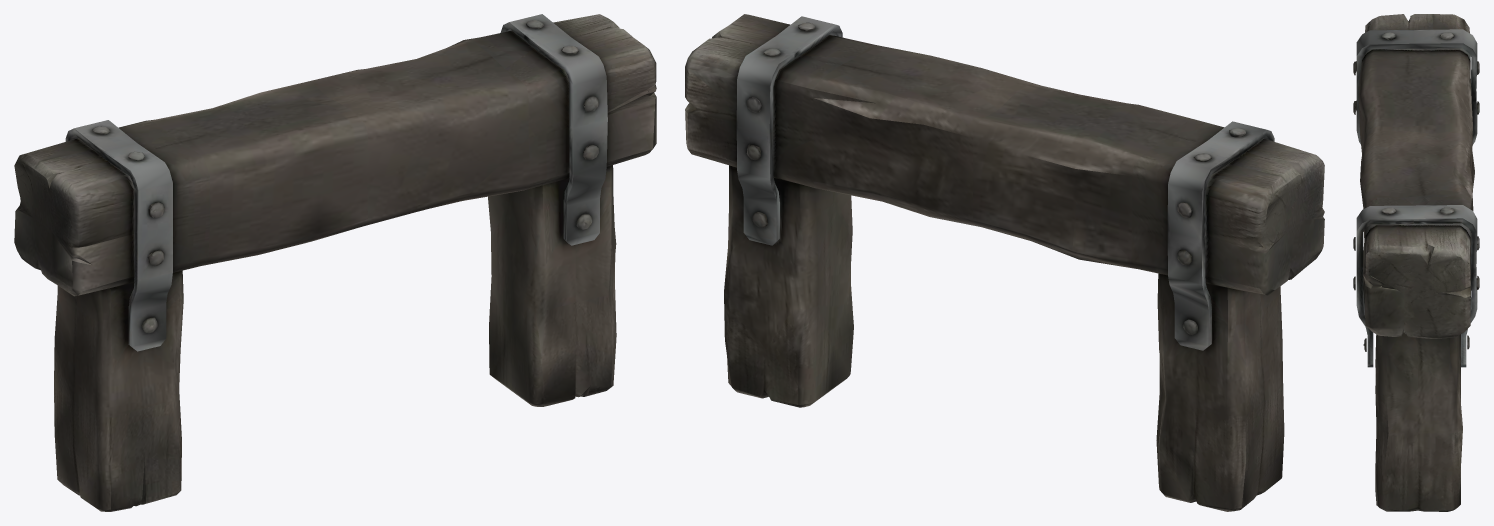
Rendered from beam.glb.
The picture shows the model from 3 angles, left to right: view 1: azimuth 30°, elevation 25°; view 2: azimuth 150°, elevation 25°; view 3: azimuth 270°, elevation 25°; orthographic projection. The views are drawn at different scales.
Visible parts, largest first — view 1: model; view 2: model; view 3: model.
Part boxes in pixels (box(x1,y1,x2,y2)): model: box(14, 14, 656, 511); model: box(685, 14, 1324, 511); model: box(1353, 14, 1479, 511).
Bounding box in the file's own units: 1.77 × 1 × 0.3979.
Materials: 1 (1 with a texture image).
